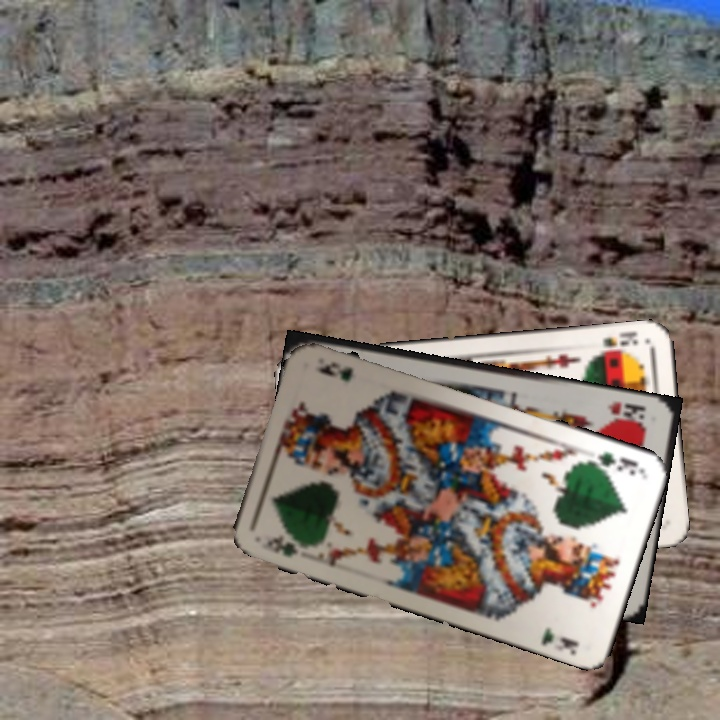GK: (583, 447, 643, 478), (256, 532, 312, 560)
HK: (603, 398, 649, 426)
SK: (599, 328, 641, 349)
